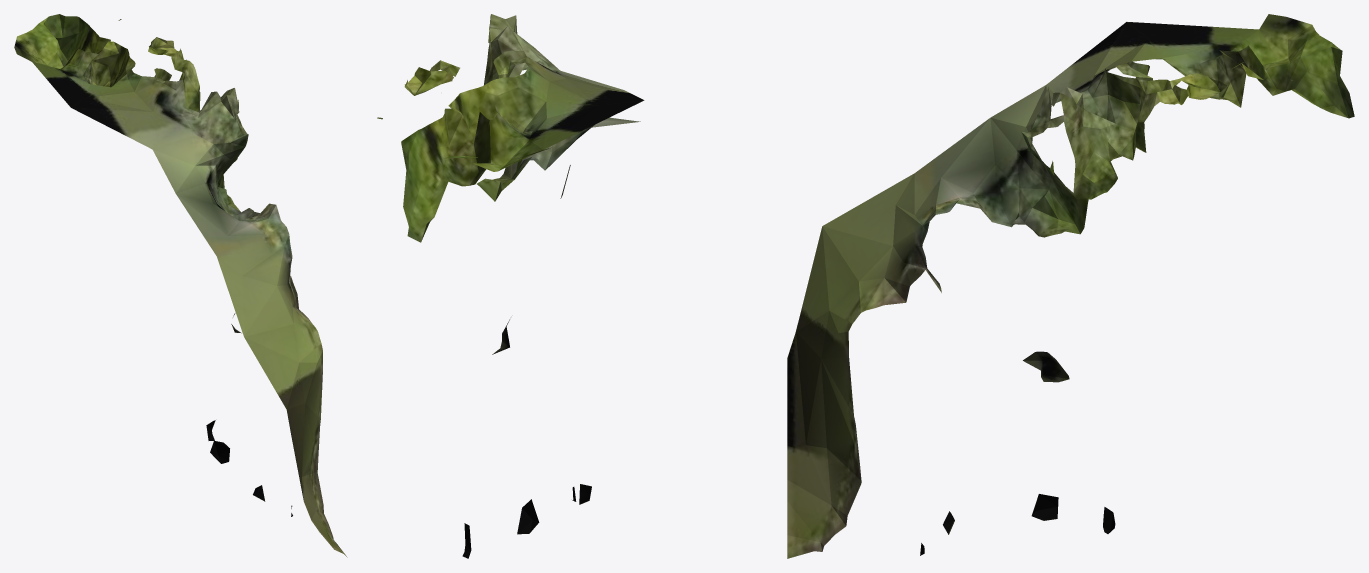
3 views of the same model, side by side, from view 1: azimuth 30°, elevation 25°; view 2: azimuth 150°, elevation 25°; view 3: azimuth 270°, elevation 25° (orthographic). The views are drawn at different scales.
Size of the model in its own units: 3.92 by 10.71 by 11.77.
Materials: 1 (1 with a texture image).
